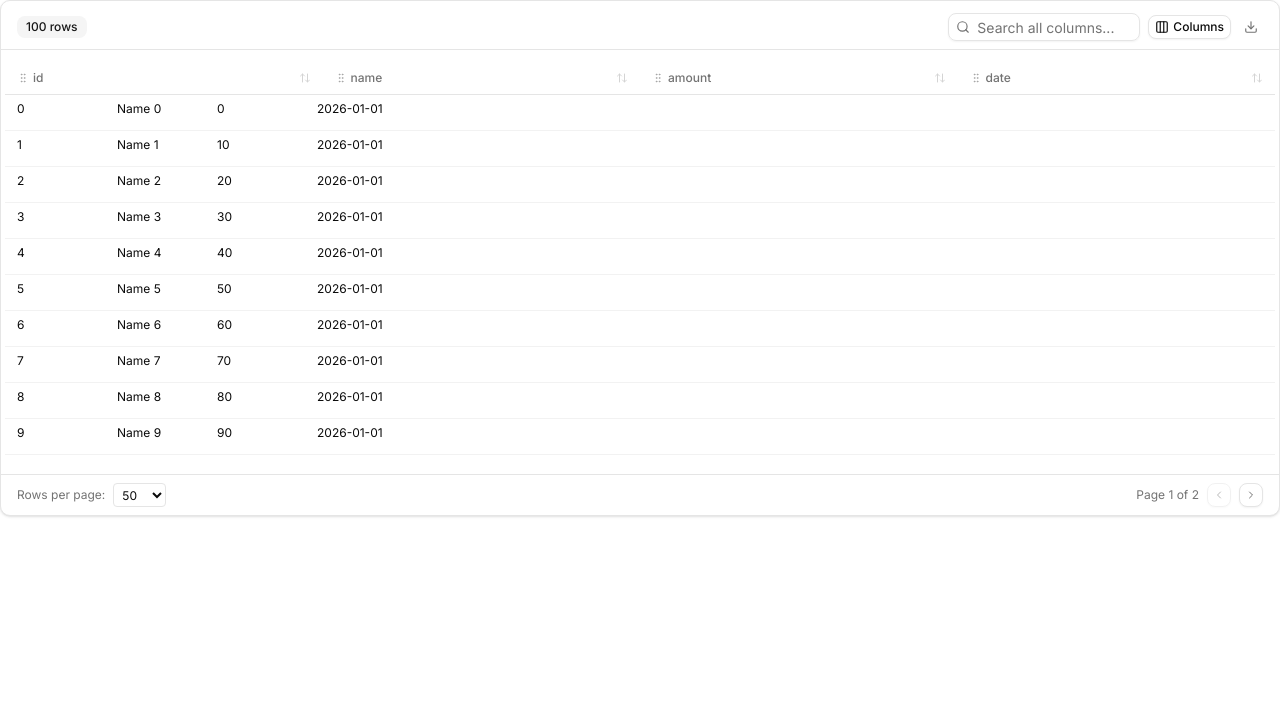
DataTable › navigates between pages
This screenshot has width=1280, height=720.
Go to next page
Step 1. Click the button with test id "next-page" → (1251, 495), box [1239,483,1263,507]
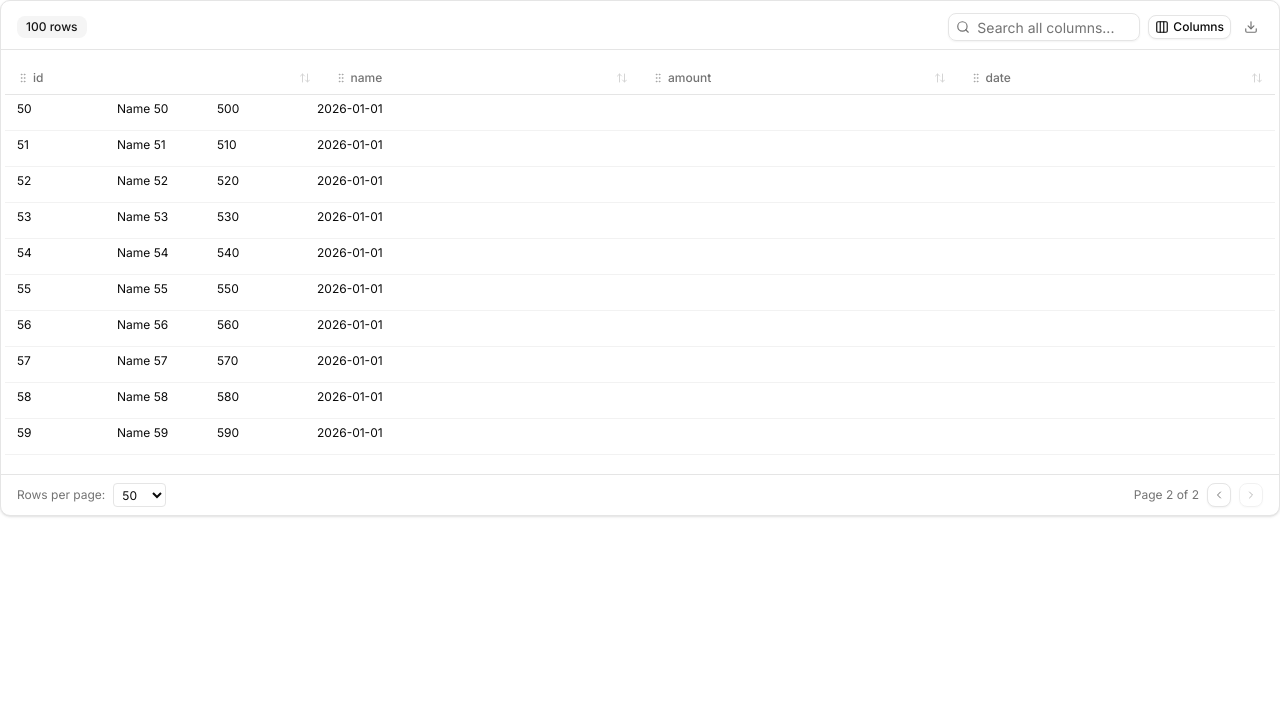
Now the element with test id "table-pagination" shows "Page 2 of 2", box [1,474,1279,515]
 Go back
Step 2. Click the button with test id "prev-page" → (1219, 495), box [1207,483,1231,507]
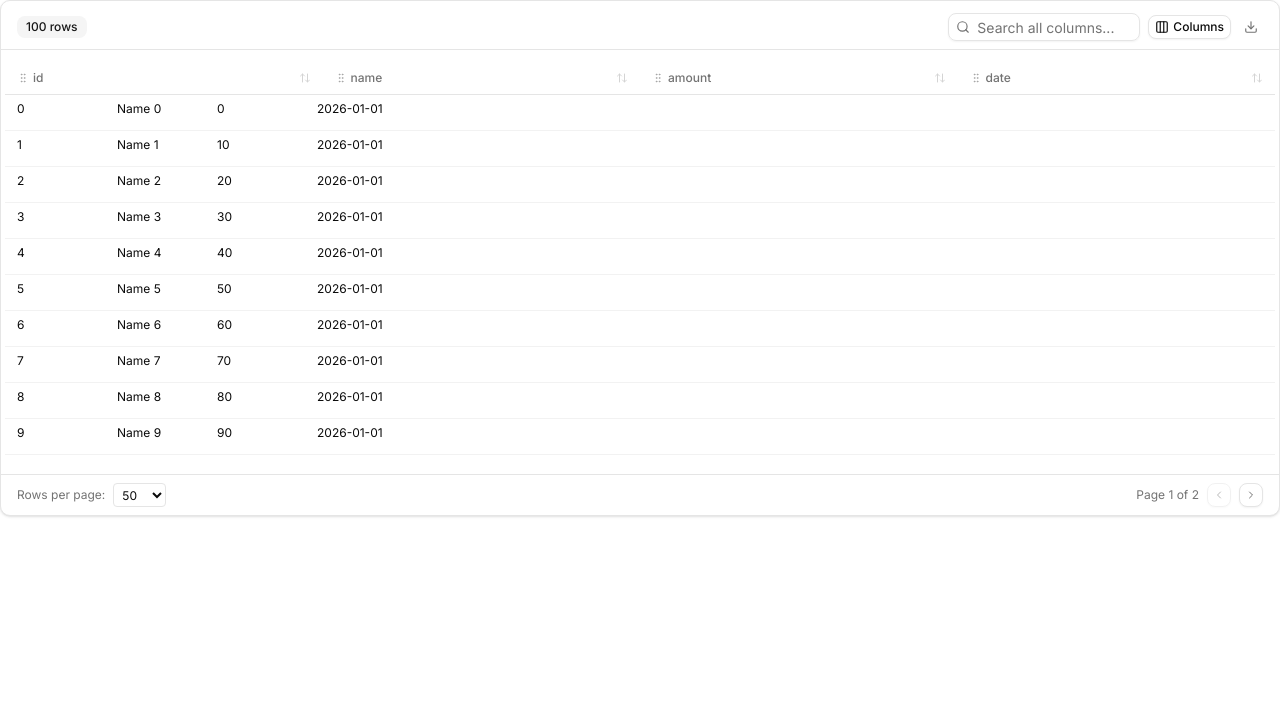
Now the element with test id "table-pagination" shows "Page 1 of 2", box [1,474,1279,515]
